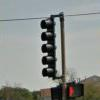Traffic light: (31, 14, 62, 89)
